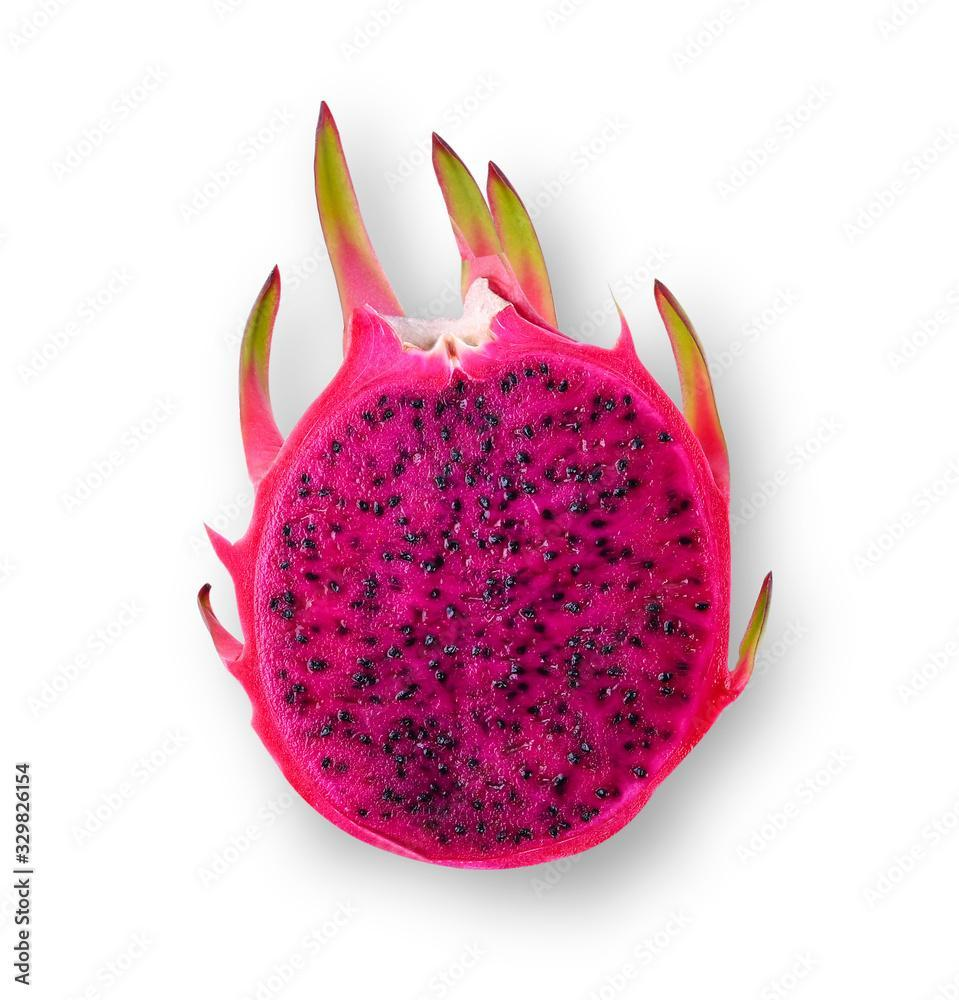dragon-fruit: (235, 332, 740, 878)
